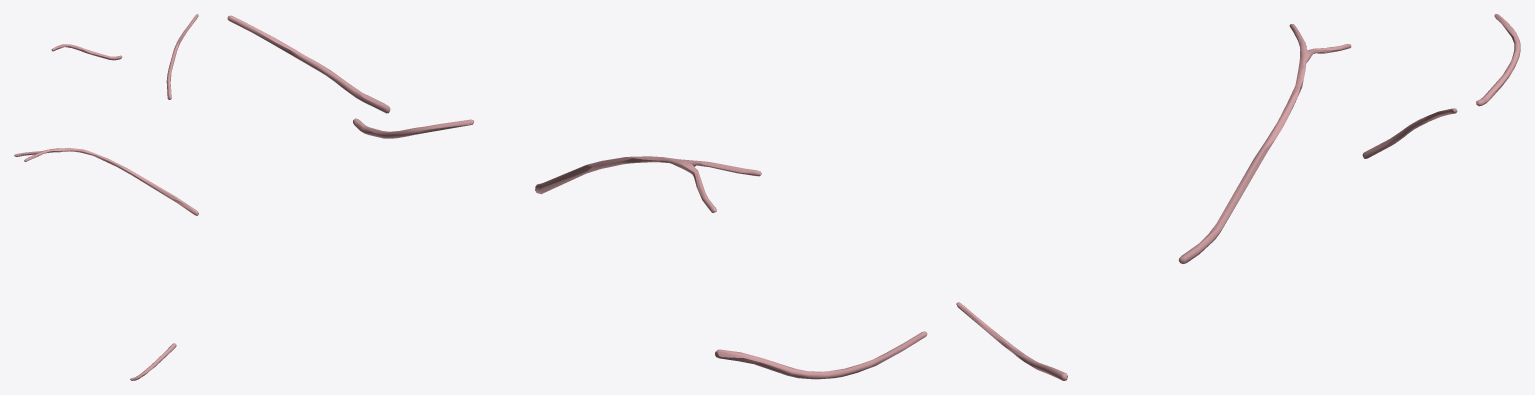
File: fma71869_fj3110.glb
3 renders of one model, left to right at view 1: azimuth 30°, elevation 25°; view 2: azimuth 150°, elevation 25°; view 3: azimuth 270°, elevation 25°, orthographic. The views are drawn at different scales.
Visible parts, largest first — view 1: FMA71869_FJ3110; view 2: FMA71869_FJ3110; view 3: FMA71869_FJ3110.
Part boxes in pixels (x1=…): FMA71869_FJ3110: x1=14, y1=14, x2=198, y2=380; FMA71869_FJ3110: x1=227, y1=15, x2=927, y2=379; FMA71869_FJ3110: x1=956, y1=14, x2=1520, y2=380.
Bounding box in the file's own units: 0.0467 × 0.0462 × 0.0586.
